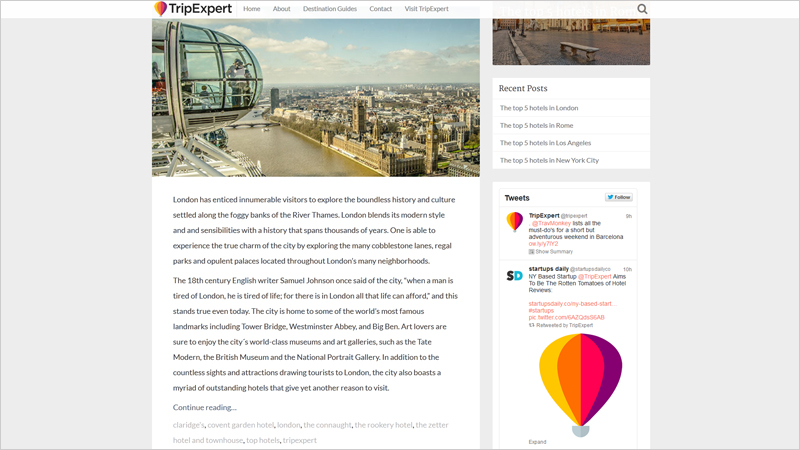Image: (151, 22, 478, 179), (529, 329, 632, 436), (492, 19, 650, 65), (147, 0, 237, 17)
Menu Bar: (240, 0, 453, 17)
Side Bar: (493, 182, 649, 450), (492, 78, 651, 164)
